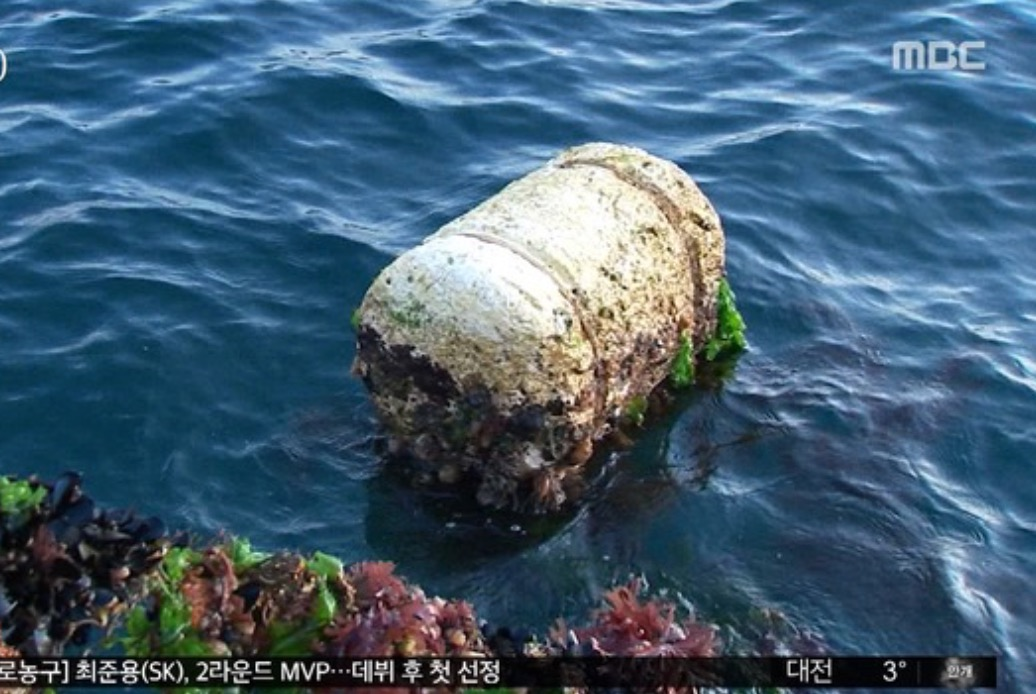buoy: (324, 138, 729, 499), (728, 121, 742, 137)
